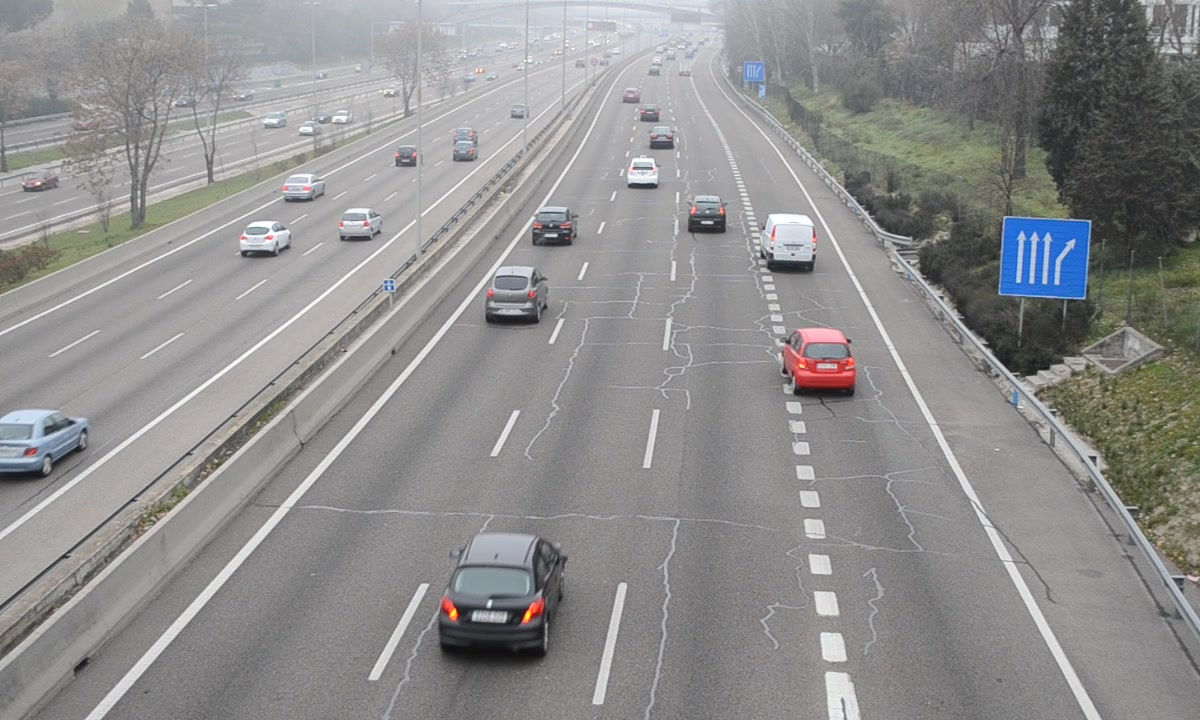car: (435, 534, 565, 656), (781, 327, 858, 390), (485, 267, 547, 320), (529, 207, 578, 248), (688, 195, 728, 234), (625, 154, 661, 188), (650, 123, 675, 149)
van: (759, 213, 819, 273)
